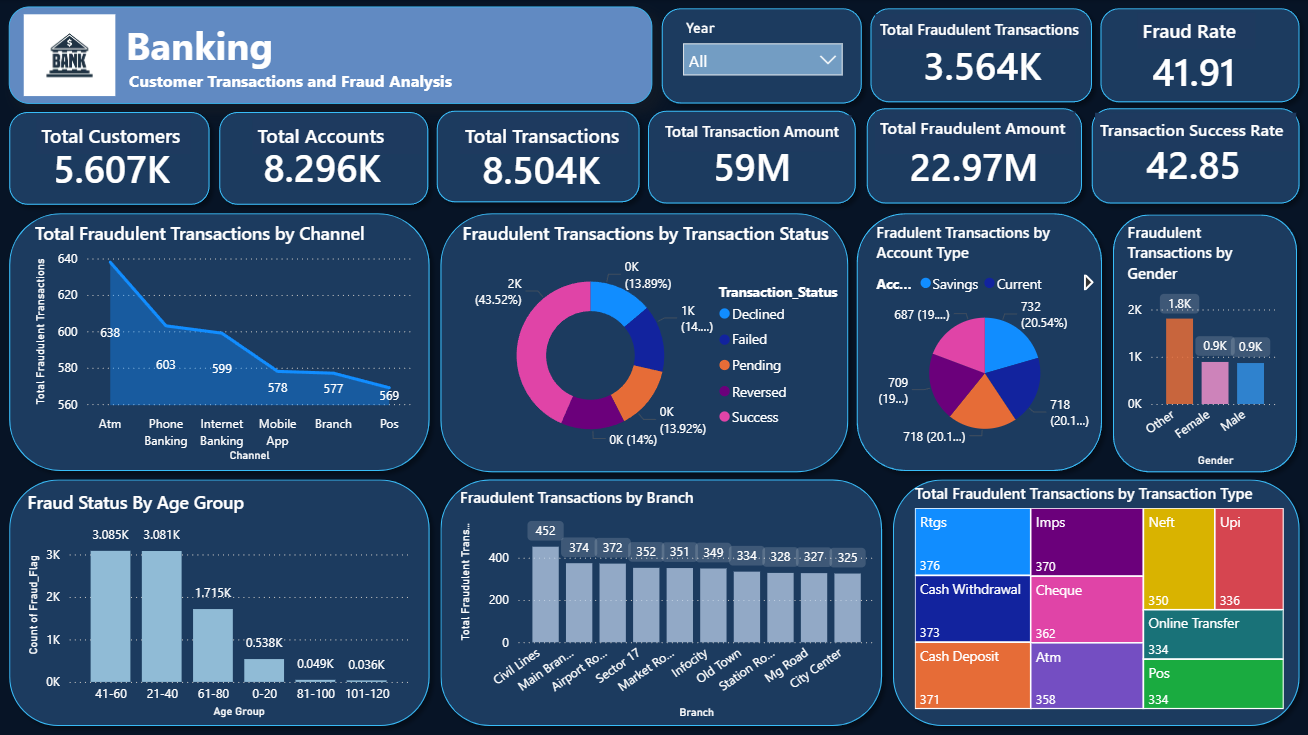

The dashboard page shown, as its layout file describes it:
{"tool":"powerbi","page":{"name":" Banking Customer Transactions and Fraud Dashboard","canvas":[1280,720],"ordinal":0},"visuals":[{"type":"textbox","box":[8.6,7.3,629.8,95.4],"z":0},{"type":"shape","box":[0,101.5,214,108.8],"z":1000},{"type":"cardVisual","fields":{"Data":["Count(Cleaned Banking Transactions.Customer_ID)"]},"box":[23.2,114.9,237.2,97.8],"z":2000},{"type":"shape","box":[205.4,101.5,222.6,108.8],"z":3000},{"type":"shape","box":[418.2,100.3,216.4,107.6],"z":4000},{"type":"shape","box":[624.9,100.3,221.3,108.8],"z":5000},{"type":"shape","box":[1059,97.8,221.3,111.3],"z":6000},{"type":"shape","box":[838.9,97.8,228.7,111.3],"z":7000},{"type":"cardVisual","fields":{"Data":["Count(Cleaned Banking Transactions.Account_Number)"]},"box":[228.7,119.8,182.2,86.8],"z":8000},{"type":"cardVisual","fields":{"Data":["Count(Cleaned Banking Transactions.Transaction_ID)"]},"box":[442.7,111.3,195.7,106.4],"z":9000},{"type":"textbox","box":[645.7,113.7,187.1,35.5],"z":10000},{"type":"textbox","box":[450,116.2,163.8,35],"z":11000},{"type":"textbox","box":[247.5,116.2,163.8,35],"z":12000},{"type":"textbox","box":[35,116.2,151.2,35],"z":13000},{"type":"cardVisual","fields":{"Data":["Cleaned Banking Transactions.Total Transaction Amount"]},"box":[668.9,122.3,146.7,79.5],"z":14000},{"type":"textbox","box":[856,110.1,195.7,41.6],"z":15000},{"type":"cardVisual","fields":{"Data":["Cleaned Banking Transactions.Success_Rate"]},"box":[1092,107.6,162.6,103.9],"z":16000},{"type":"shape","box":[0,200.5,429.2,270.2],"z":17000},{"type":"shape","box":[421.9,200.5,417,271.5],"z":18000},{"type":"shape","box":[0,460.7,429.2,259.2],"z":19000},{"type":"stackedAreaChart","title":"Total Fraudulent Transactions by Channel","fields":{"Category":["Cleaned Banking Transactions.Channel"],"Y":["Cleaned Banking Transactions.Total Fraudulent Transactions"]},"box":[29.3,217.7,381.5,239.7],"z":20000},{"type":"donutChart","title":"Fraudulent Transactions by Transaction Status ","fields":{"Y":["Cleaned Banking Transactions.Total Fraudulent Transactions"],"Series":["Cleaned Banking Transactions.Transaction_Status"]},"box":[447.5,217.5,382.5,240],"z":21000},{"type":"shape","box":[864.5,461,415.8,259.2],"z":22000},{"type":"lineStackedColumnComboChart","title":"Fraud Status By Age Group","fields":{"Category":["Cleaned Banking Transactions.Age Group"],"Y":["CountNonNull(Cleaned Banking Transactions.Fraud_Flag)"]},"box":[22.5,480,382.5,227.5],"z":23000},{"type":"shape","box":[1079.8,201.8,198.1,270.2],"z":24000},{"type":"image","box":[23.2,8.6,89.3,92.9],"z":25000},{"type":"shape","box":[1067.5,0,212.8,110.1],"z":26000},{"type":"shape","box":[842.5,0,234.8,110.1],"z":27000},{"type":"shape","box":[638.8,0,213.8,111.2],"z":28000},{"type":"cardVisual","fields":{"Data":["Cleaned Banking Transactions.Total Fraudulent Transactions"]},"box":[874.3,15.9,182.2,94.2],"z":29000},{"type":"textbox","box":[856,14.7,206.7,34.2],"z":30000},{"type":"slicer","fields":{"Values":["Cleaned Banking Transactions.Year"]},"box":[657.9,14.7,176.1,83.2],"z":31000},{"type":"cardVisual","fields":{"Data":["Cleaned Banking Transactions.Fraud Rate"]},"box":[1098.1,22,159,94.2],"z":32000},{"type":"textbox","box":[1112.8,13.5,114.9,35.5],"z":33000},{"type":"cardVisual","fields":{"Data":["Banking.Transaction Failed rate"]},"box":[896.3,236,162.6,103.9],"z":34000},{"type":"textbox","box":[1071.2,111.3,196.9,37.9],"z":35000},{"type":"shape","box":[829.1,200.5,258,270.2],"z":36000},{"type":"shape","box":[421.9,460.7,450,259.2],"z":37000},{"type":"lineClusteredColumnComboChart","title":"Fraudulent Transactions by Gender","fields":{"Y":["Cleaned Banking Transactions.Total Fraudulent Transactions"],"Category":["Cleaned Banking Transactions.Gender"]},"box":[1098.1,217.7,159,244.6],"z":38000},{"type":"pieChart","title":"Fradulent Transactions by Account Type","fields":{"Y":["Cleaned Banking Transactions.Total Fraudulent Transactions"],"Category":["Cleaned Banking Transactions.Account_Type"]},"box":[852.3,217.7,222.6,227.4],"z":39000},{"type":"cardVisual","fields":{"Data":["Cleaned Banking Transactions.Total Fraud Amount"]},"box":[860.9,122.3,190.8,79.5],"z":40000},{"type":"columnChart","title":"Fraudulent Transactions by Branch","fields":{"Category":["Cleaned Banking Transactions.Branch"],"Y":["Cleaned Banking Transactions.Total Fraudulent Transactions"]},"box":[445.1,476.9,415.8,232.3],"z":41000},{"type":"treemap","title":"Total Fraudulent Transactions by Transaction Type","fields":{"Group":["Cleaned Banking Transactions.Transaction_Type"],"Values":["Cleaned Banking Transactions.Total Fraudulent Transactions"]},"box":[890.2,473.2,370.5,226.2],"z":42000}]}

Visuals, with their boxes in screenshot pixels (x1, y1, x2, y2), scaled from the page's 1280x720 canvas onto the 1308x735 screenshot:
textbox: {"x1": 9, "y1": 7, "x2": 652, "y2": 105}
shape: {"x1": 0, "y1": 104, "x2": 219, "y2": 215}
cardVisual - Count(Cleaned Banking Transactions.Customer_ID): {"x1": 24, "y1": 117, "x2": 266, "y2": 217}
shape: {"x1": 210, "y1": 104, "x2": 437, "y2": 215}
shape: {"x1": 427, "y1": 102, "x2": 648, "y2": 212}
shape: {"x1": 639, "y1": 102, "x2": 865, "y2": 213}
shape: {"x1": 1082, "y1": 100, "x2": 1307, "y2": 213}
shape: {"x1": 857, "y1": 100, "x2": 1091, "y2": 213}
cardVisual - Count(Cleaned Banking Transactions.Account_Number): {"x1": 234, "y1": 122, "x2": 420, "y2": 211}
cardVisual - Count(Cleaned Banking Transactions.Transaction_ID): {"x1": 452, "y1": 114, "x2": 652, "y2": 222}
textbox: {"x1": 660, "y1": 116, "x2": 851, "y2": 152}
textbox: {"x1": 460, "y1": 119, "x2": 627, "y2": 154}
textbox: {"x1": 253, "y1": 119, "x2": 420, "y2": 154}
textbox: {"x1": 36, "y1": 119, "x2": 190, "y2": 154}
cardVisual - Cleaned Banking Transactions.Total Transaction Amount: {"x1": 684, "y1": 125, "x2": 833, "y2": 206}
textbox: {"x1": 875, "y1": 112, "x2": 1075, "y2": 155}
cardVisual - Cleaned Banking Transactions.Success_Rate: {"x1": 1116, "y1": 110, "x2": 1282, "y2": 216}
shape: {"x1": 0, "y1": 205, "x2": 439, "y2": 481}
shape: {"x1": 431, "y1": 205, "x2": 857, "y2": 482}
shape: {"x1": 0, "y1": 470, "x2": 439, "y2": 734}
"Total Fraudulent Transactions by Channel" stackedAreaChart: {"x1": 30, "y1": 222, "x2": 420, "y2": 467}
"Fraudulent Transactions by Transaction Status " donutChart: {"x1": 457, "y1": 222, "x2": 848, "y2": 467}
shape: {"x1": 883, "y1": 471, "x2": 1307, "y2": 734}
"Fraud Status By Age Group" lineStackedColumnComboChart: {"x1": 23, "y1": 490, "x2": 414, "y2": 722}
shape: {"x1": 1103, "y1": 206, "x2": 1306, "y2": 482}
image: {"x1": 24, "y1": 9, "x2": 115, "y2": 104}
shape: {"x1": 1091, "y1": 0, "x2": 1307, "y2": 112}
shape: {"x1": 861, "y1": 0, "x2": 1101, "y2": 112}
shape: {"x1": 653, "y1": 0, "x2": 871, "y2": 114}
cardVisual - Cleaned Banking Transactions.Total Fraudulent Transactions: {"x1": 893, "y1": 16, "x2": 1080, "y2": 112}
textbox: {"x1": 875, "y1": 15, "x2": 1086, "y2": 50}
slicer - Cleaned Banking Transactions.Year: {"x1": 672, "y1": 15, "x2": 852, "y2": 100}
cardVisual - Cleaned Banking Transactions.Fraud Rate: {"x1": 1122, "y1": 22, "x2": 1285, "y2": 119}
textbox: {"x1": 1137, "y1": 14, "x2": 1255, "y2": 50}
cardVisual - Banking.Transaction Failed rate: {"x1": 916, "y1": 241, "x2": 1082, "y2": 347}
textbox: {"x1": 1095, "y1": 114, "x2": 1296, "y2": 152}
shape: {"x1": 847, "y1": 205, "x2": 1111, "y2": 481}
shape: {"x1": 431, "y1": 470, "x2": 891, "y2": 734}
"Fraudulent Transactions by Gender" lineClusteredColumnComboChart: {"x1": 1122, "y1": 222, "x2": 1285, "y2": 472}
"Fradulent Transactions by Account Type" pieChart: {"x1": 871, "y1": 222, "x2": 1098, "y2": 454}
cardVisual - Cleaned Banking Transactions.Total Fraud Amount: {"x1": 880, "y1": 125, "x2": 1075, "y2": 206}
"Fraudulent Transactions by Branch" columnChart: {"x1": 455, "y1": 487, "x2": 880, "y2": 724}
"Total Fraudulent Transactions by Transaction Type" treemap: {"x1": 910, "y1": 483, "x2": 1288, "y2": 714}
